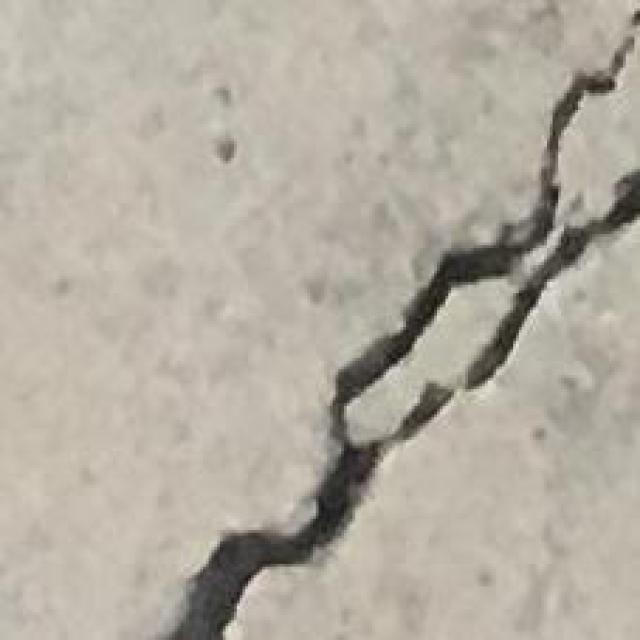branched cracks: (160, 10, 639, 639)
